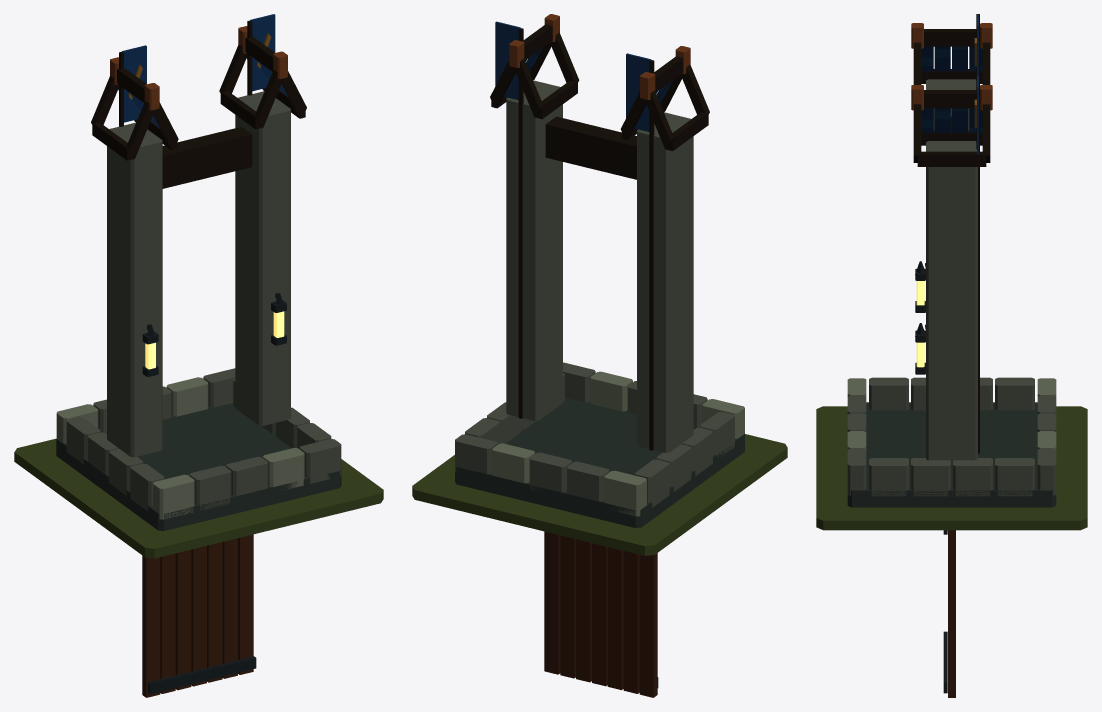
Rendered from gate_t6.glb.
3 views of the same model, side by side, from view 1: azimuth 30°, elevation 25°; view 2: azimuth 150°, elevation 25°; view 3: azimuth 270°, elevation 25° (orthographic). The views are drawn at different scales.
Parts seen in each view (by area): view 1: MMR | gate | T06 Architecture.001, MMR | gate | T06 Lift Gate.001, MMR | gate | Tier 06 Ground.001; view 2: MMR | gate | T06 Architecture.001, MMR | gate | T06 Lift Gate.001, MMR | gate | Tier 06 Ground.001; view 3: MMR | gate | T06 Architecture.001, MMR | gate | Tier 06 Ground.001, MMR | gate | T06 Lift Gate.001.
Boxes of the visible parts, box(x1,y1,x2,y2) form: MMR | gate | T06 Architecture.001: box(56, 14, 341, 530); MMR | gate | T06 Lift Gate.001: box(142, 534, 256, 697); MMR | gate | Tier 06 Ground.001: box(14, 438, 383, 558); MMR | gate | T06 Architecture.001: box(455, 14, 744, 527); MMR | gate | T06 Lift Gate.001: box(544, 531, 658, 697); MMR | gate | Tier 06 Ground.001: box(412, 434, 787, 555); MMR | gate | T06 Architecture.001: box(847, 14, 1056, 507); MMR | gate | Tier 06 Ground.001: box(816, 406, 1087, 530); MMR | gate | T06 Lift Gate.001: box(943, 530, 955, 697).
Bounding box in the file's own units: 1.3 × 3.32 × 1.3.
2 materials, 1 textured.
